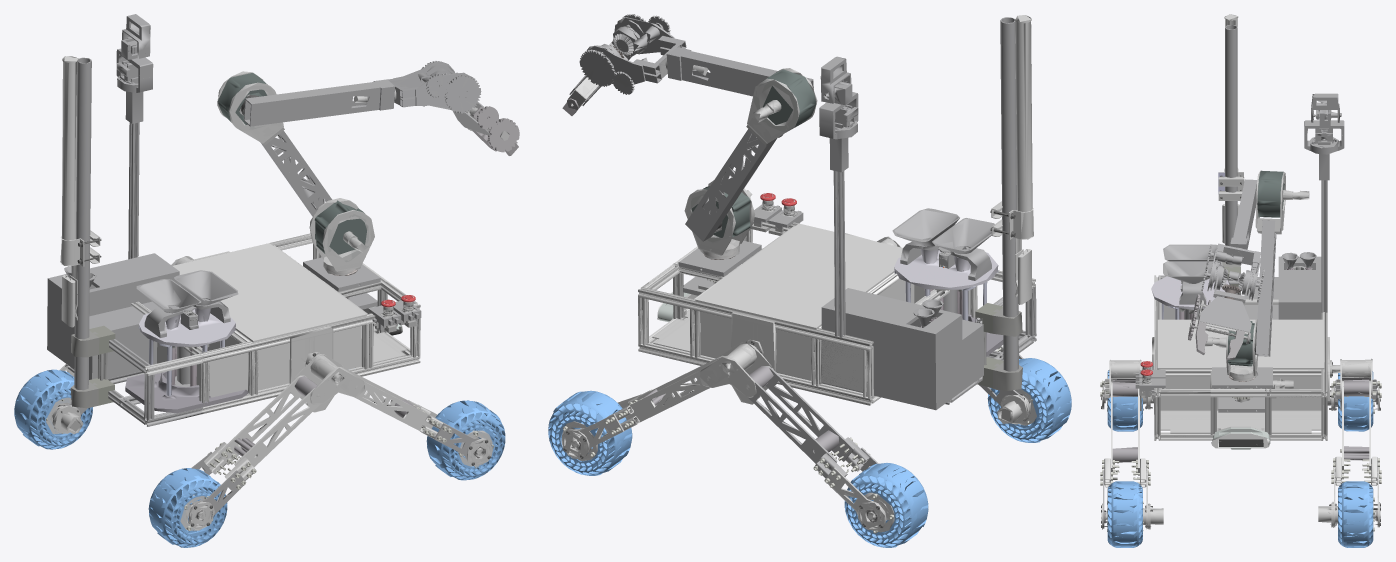
Rendered from vidyaan-optimized.glb.
The picture shows the model from 3 angles, left to right: view 1: azimuth 30°, elevation 25°; view 2: azimuth 150°, elevation 25°; view 3: azimuth 270°, elevation 25°; orthographic projection. The views are drawn at different scales.
Size of the model in its own units: 1.36 by 1.33 by 0.8766.
2 materials, 2 textured.
